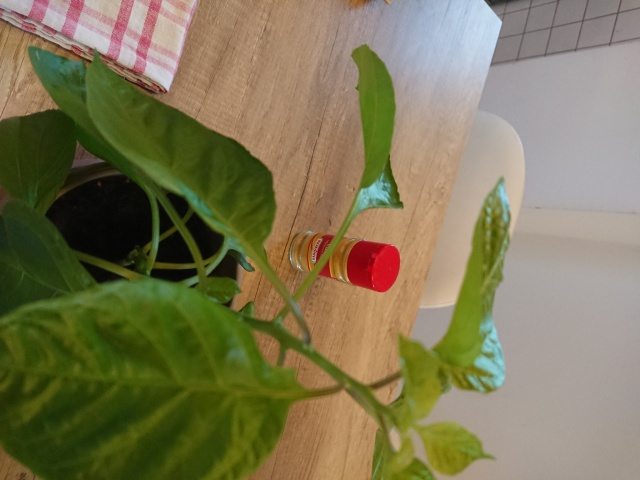Kotanyi Curry Spices Mix 70g: (286, 227, 403, 295)
